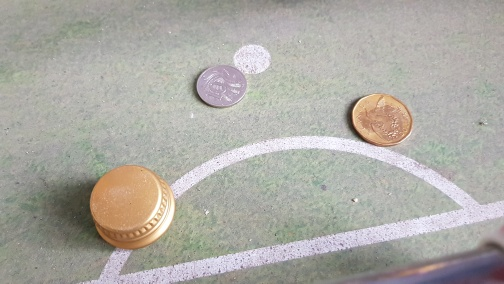coin: (349, 92, 415, 146), (194, 64, 247, 109)
